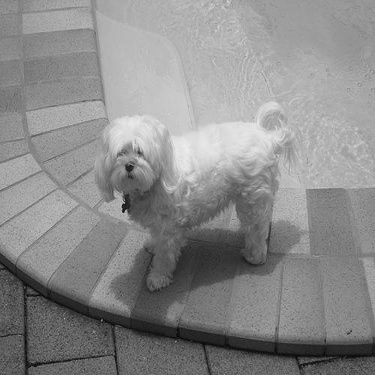dog: (88, 94, 313, 300)
